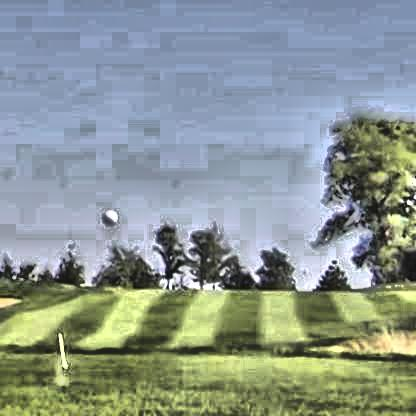golfball: (98, 206, 114, 225)
